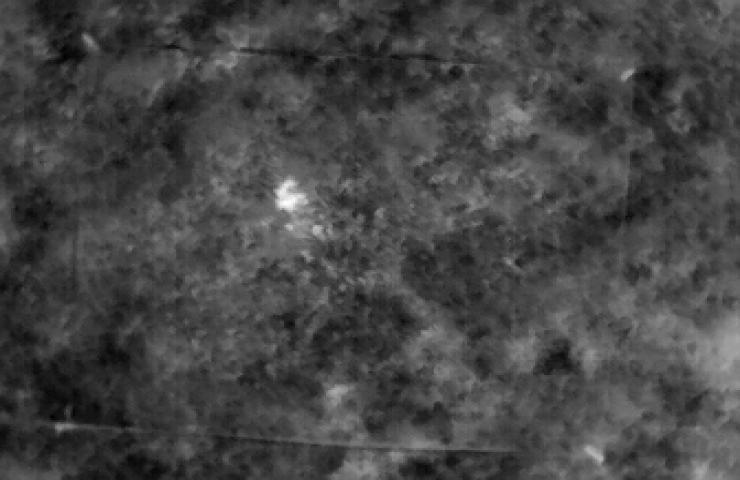landmines: (273, 175, 312, 216)
